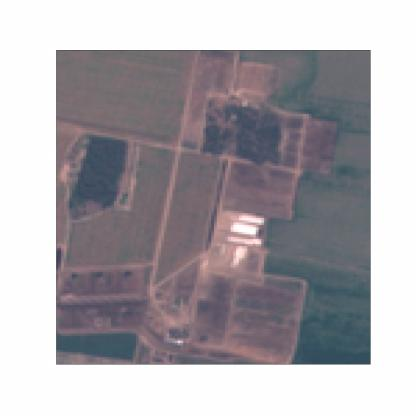silobolsa: (224, 221, 262, 234), (224, 235, 266, 245), (233, 243, 246, 268), (235, 212, 267, 222)
